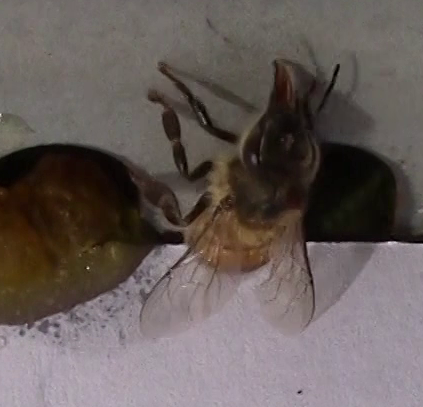Varroa destructor: (284, 180, 307, 210)
